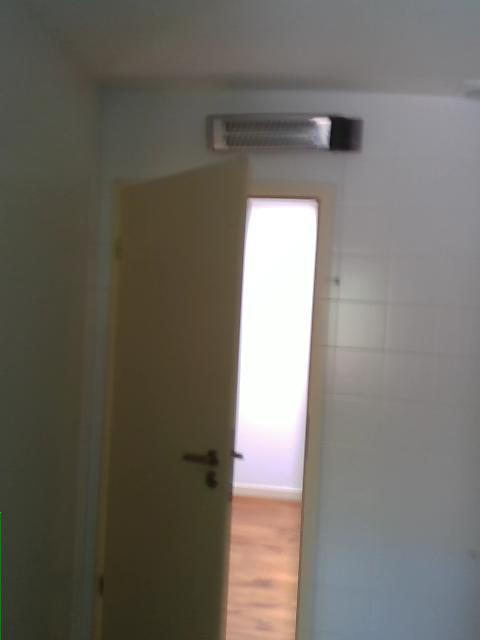semi_door: (89, 147, 335, 639)
